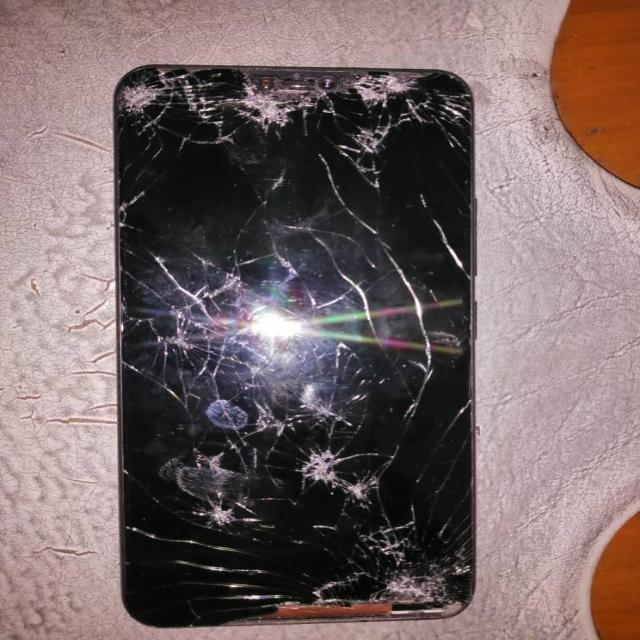mobile phone: (113, 64, 477, 627)
